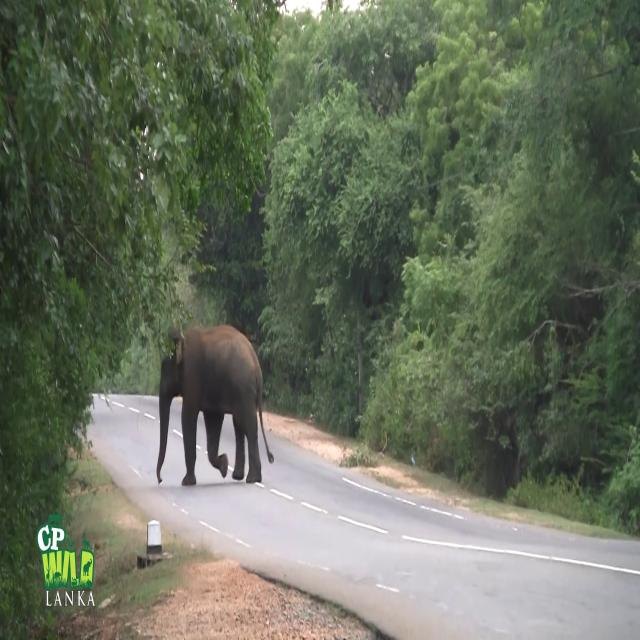Elephant: (156, 323, 274, 486)
